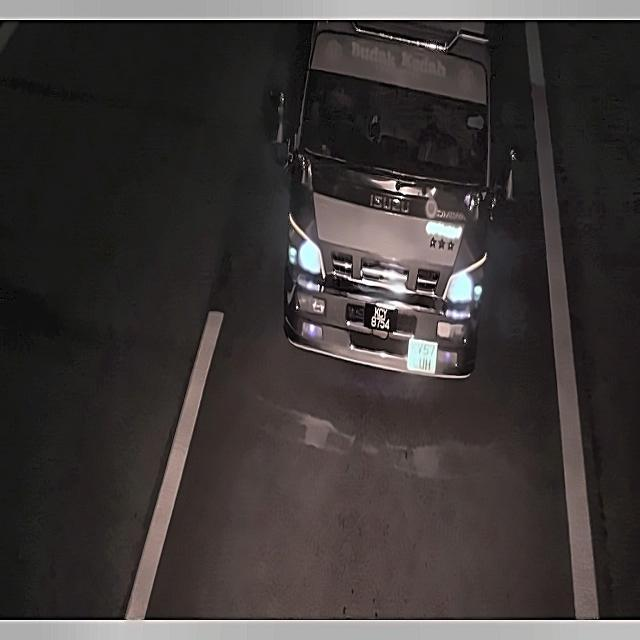car: (362, 296, 402, 340)
